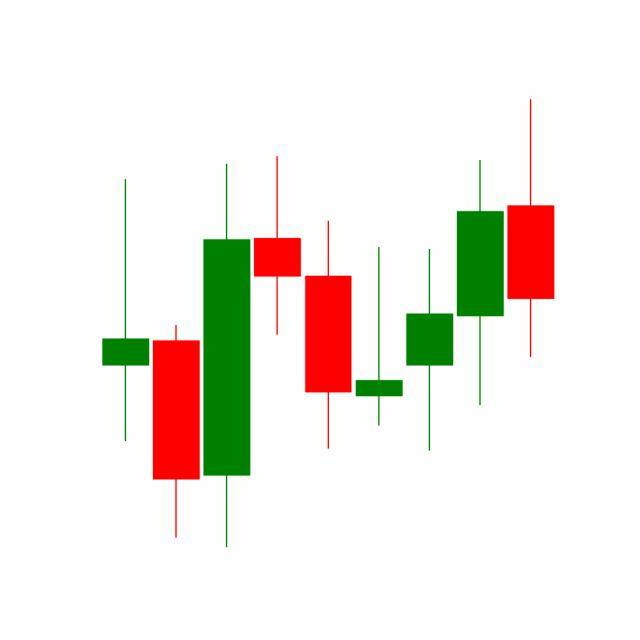Hikkake Pattern: (252, 153, 506, 454)
